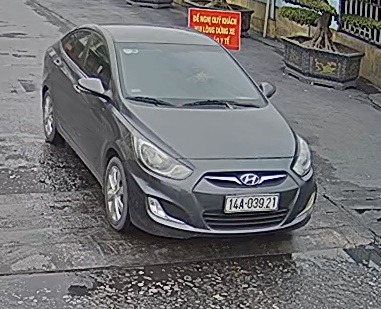vehicle plate: (223, 193, 282, 213)
